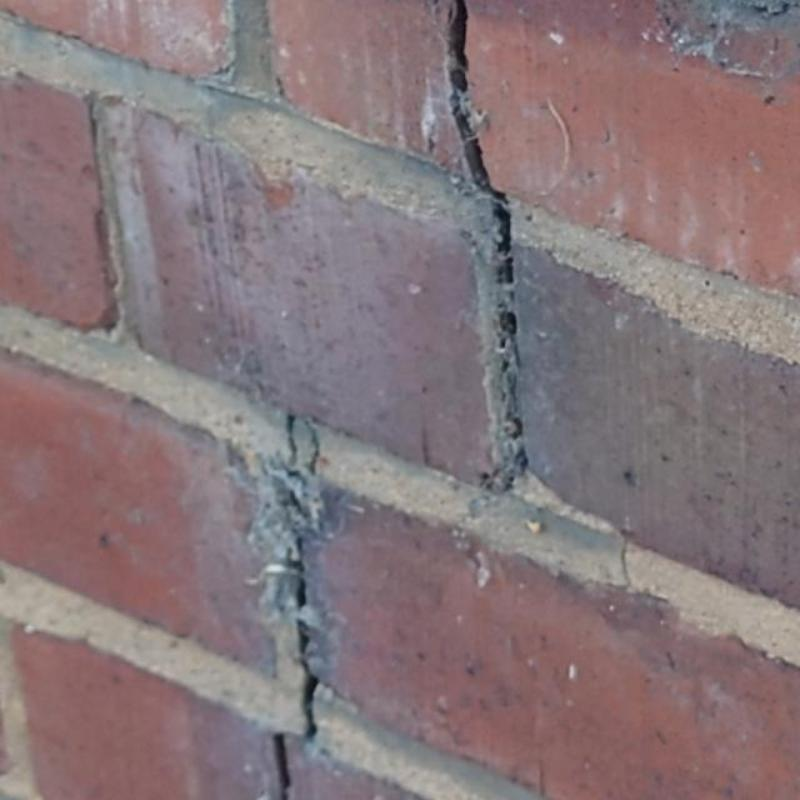crack: (445, 0, 527, 488), (278, 414, 323, 741), (276, 734, 292, 799), (621, 540, 631, 590)
